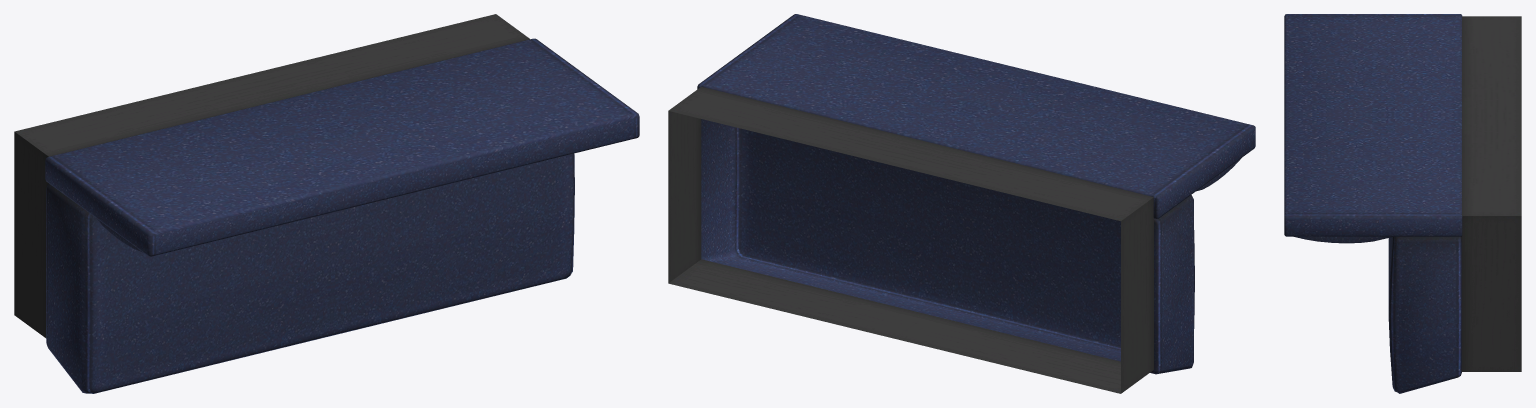
The model's file is nt_bench_retro_LOD0.obj.
3 renders of one model, left to right at view 1: azimuth 30°, elevation 25°; view 2: azimuth 150°, elevation 25°; view 3: azimuth 270°, elevation 25°, orthographic. The views are drawn at different scales.
Parts seen in each view (by area): view 1: mtl_nt_bench_retro; view 2: mtl_nt_bench_retro; view 3: mtl_nt_bench_retro.
Part boxes in pixels (left/top/right/bottom): mtl_nt_bench_retro: left=14, top=14, right=639, bottom=393; mtl_nt_bench_retro: left=668, top=14, right=1255, bottom=393; mtl_nt_bench_retro: left=1284, top=14, right=1521, bottom=393.
Bounding box in the file's own units: 183 × 74.95 × 90.03.
